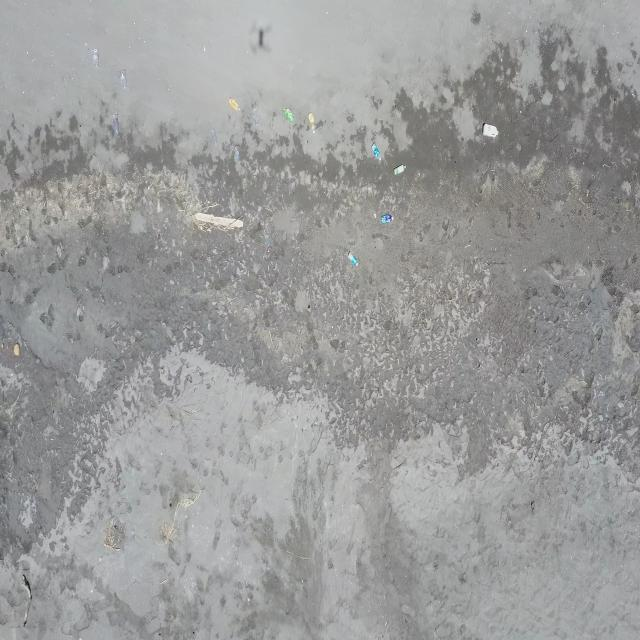plastic-bottle: (482, 122, 500, 139), (371, 142, 383, 162), (229, 96, 241, 113), (283, 107, 296, 122), (348, 251, 359, 268), (392, 164, 407, 176), (308, 112, 316, 134), (382, 212, 396, 224)
takeaway-cup: (90, 45, 101, 71), (118, 69, 129, 91), (251, 103, 261, 127), (209, 126, 219, 149), (111, 115, 121, 136), (233, 143, 241, 167), (264, 233, 273, 253)
